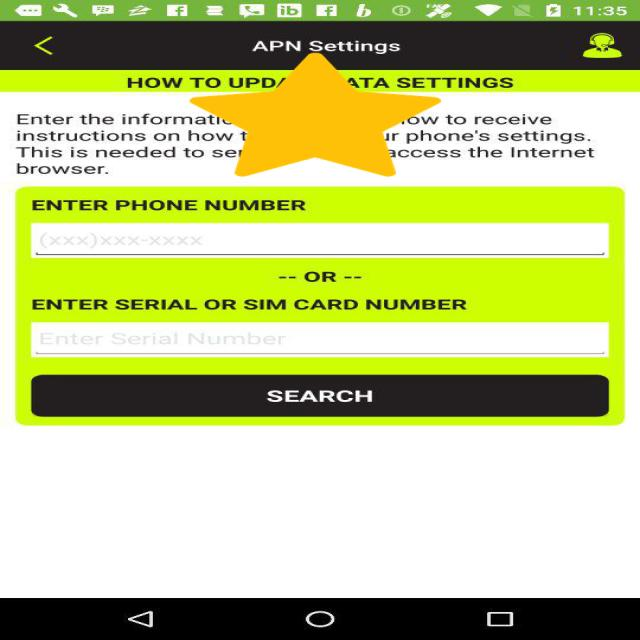forced continuity: (190, 52, 441, 176)
